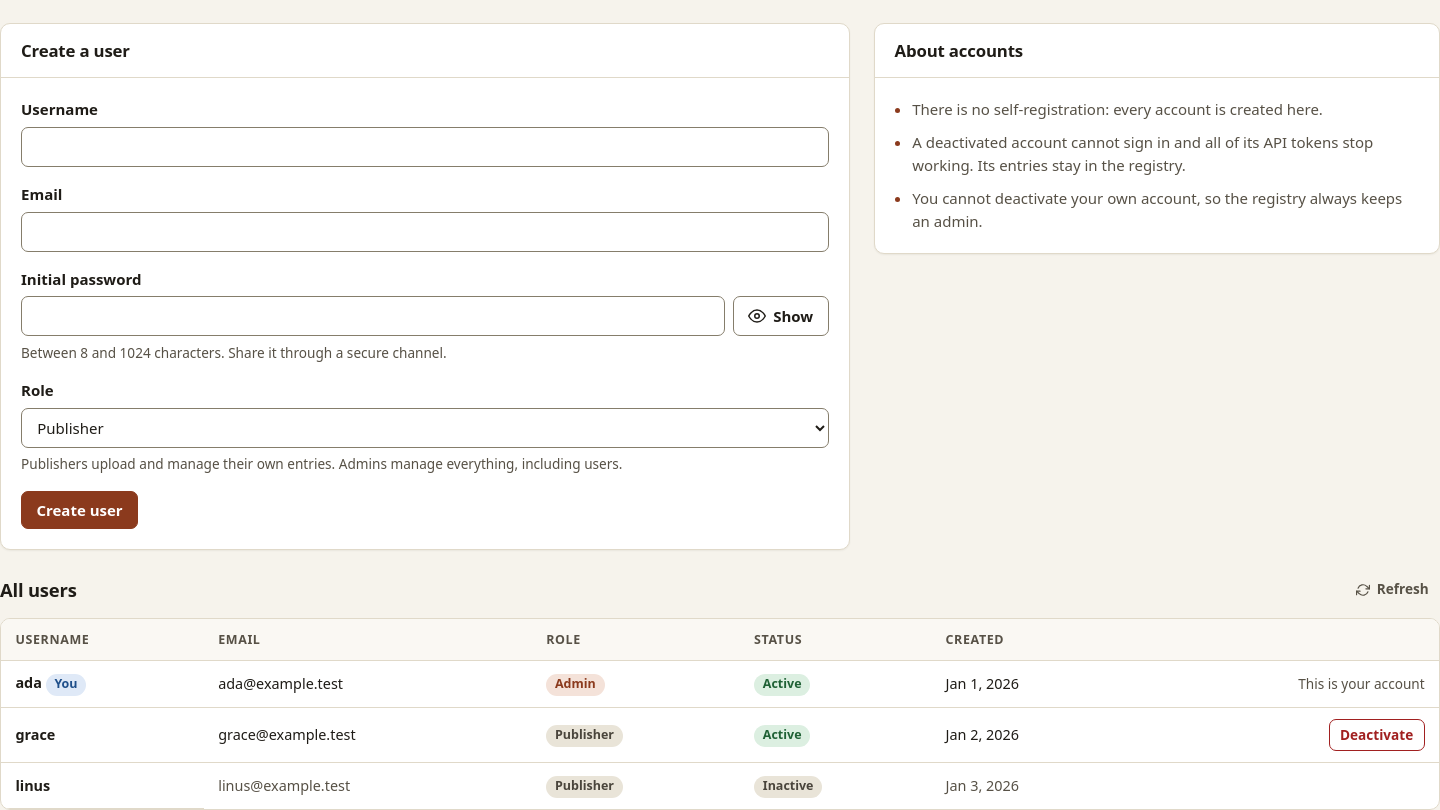
Test: Users: deactivating › treats the bare Not Found of a missing route as an unsupported feature
(page scrolled)
Expected: the table is shown, [1,618,1439,809]
Click the button named "Deactivate grace" at (1377, 735), box [1329,719,1425,751]
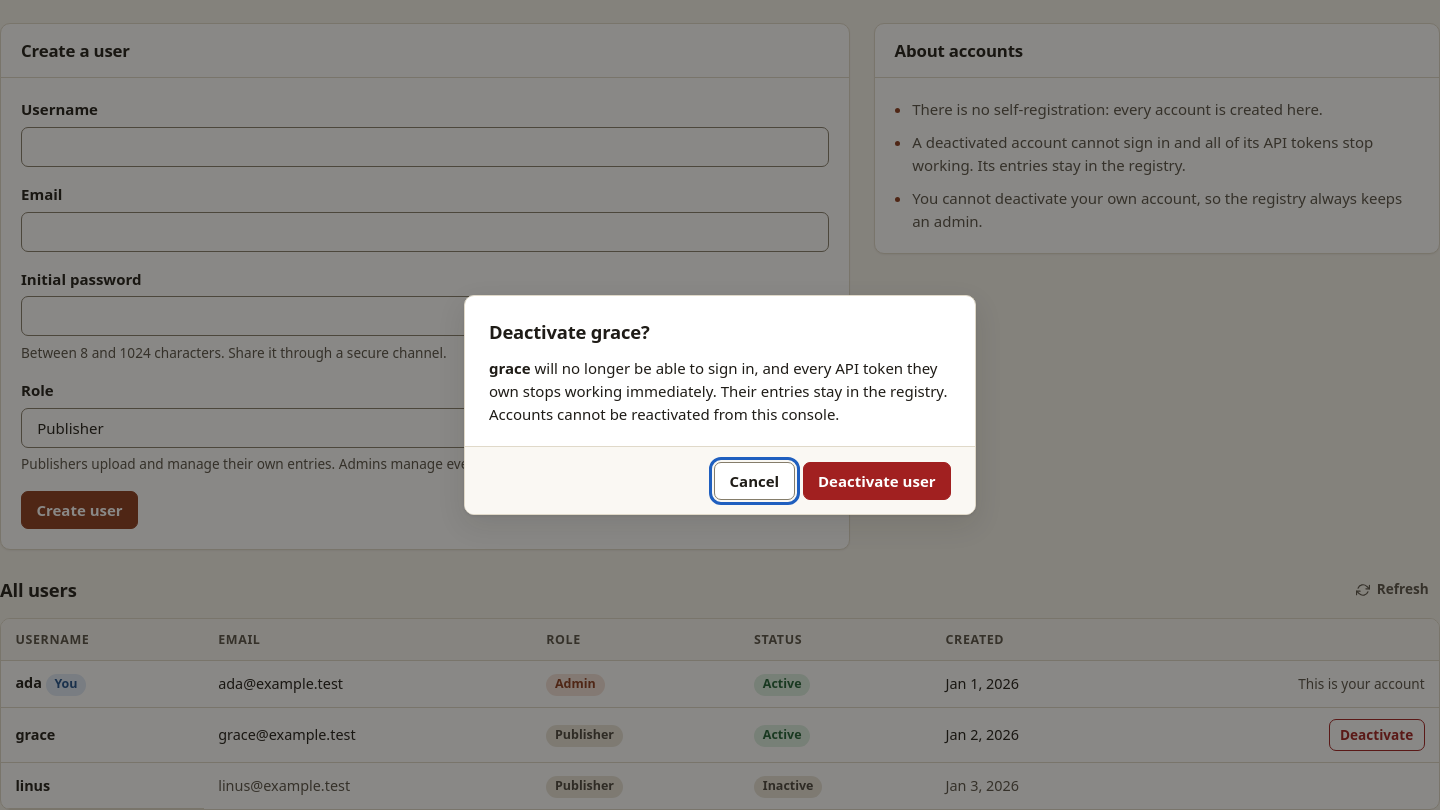
Click the button "Deactivate user" at (877, 481), box [802,462,951,500]
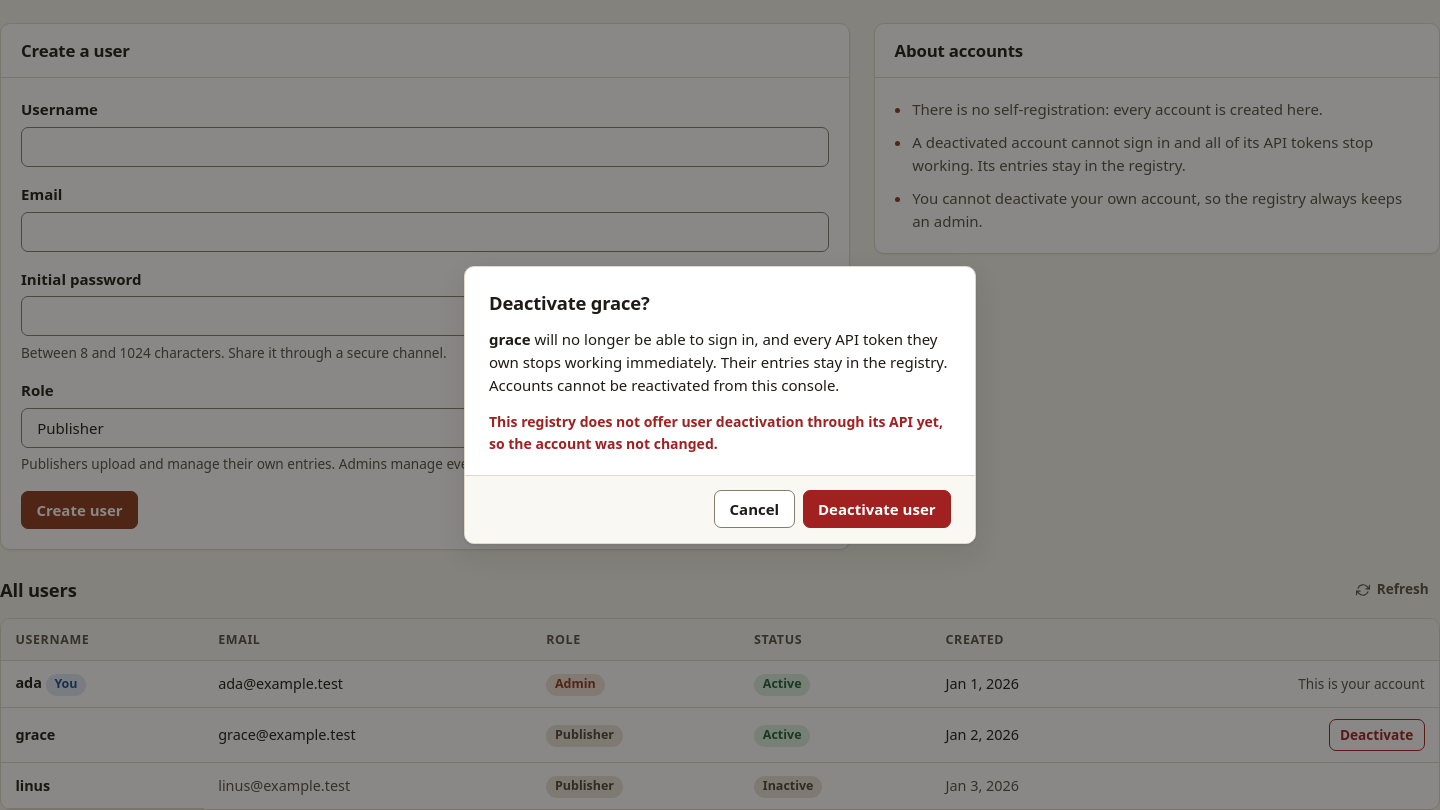
Expected: the message shows "does not offer user deactivation", [489,412,943,453]
